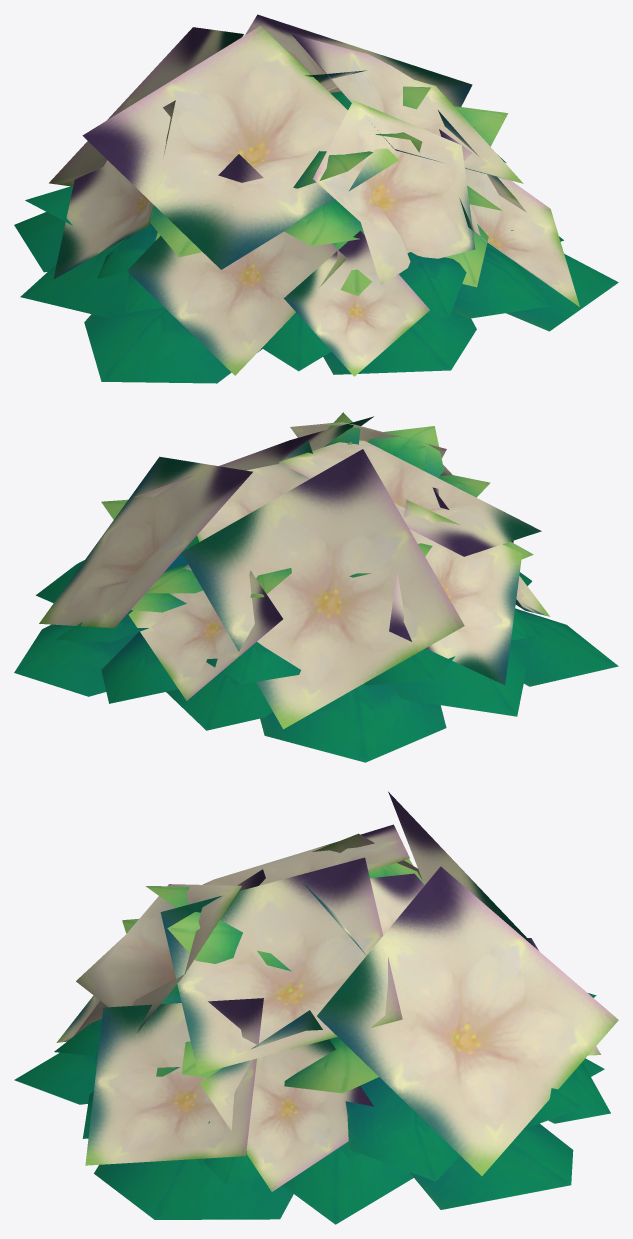
The model's file is Homeworld_Exterior_Common_Prop_Flower_FloralDesign_07_Vo.fbx.
3 views of the same model, one above another, from view 1: azimuth 30°, elevation 25°; view 2: azimuth 150°, elevation 25°; view 3: azimuth 270°, elevation 25° (orthographic). The views are drawn at different scales.
Parts seen in each view (by area): view 1: Homeworld_Exterior_Common_Prop_Flower_FloralDesign_07_Vo; view 2: Homeworld_Exterior_Common_Prop_Flower_FloralDesign_07_Vo; view 3: Homeworld_Exterior_Common_Prop_Flower_FloralDesign_07_Vo.
Boxes of the visible parts, x1,y1,x2,y2 form: Homeworld_Exterior_Common_Prop_Flower_FloralDesign_07_Vo: (14,14,618,383); Homeworld_Exterior_Common_Prop_Flower_FloralDesign_07_Vo: (14,412,618,762); Homeworld_Exterior_Common_Prop_Flower_FloralDesign_07_Vo: (14,791,618,1224).
Size of the model in its own units: 0.3817 by 0.1836 by 0.3709.
